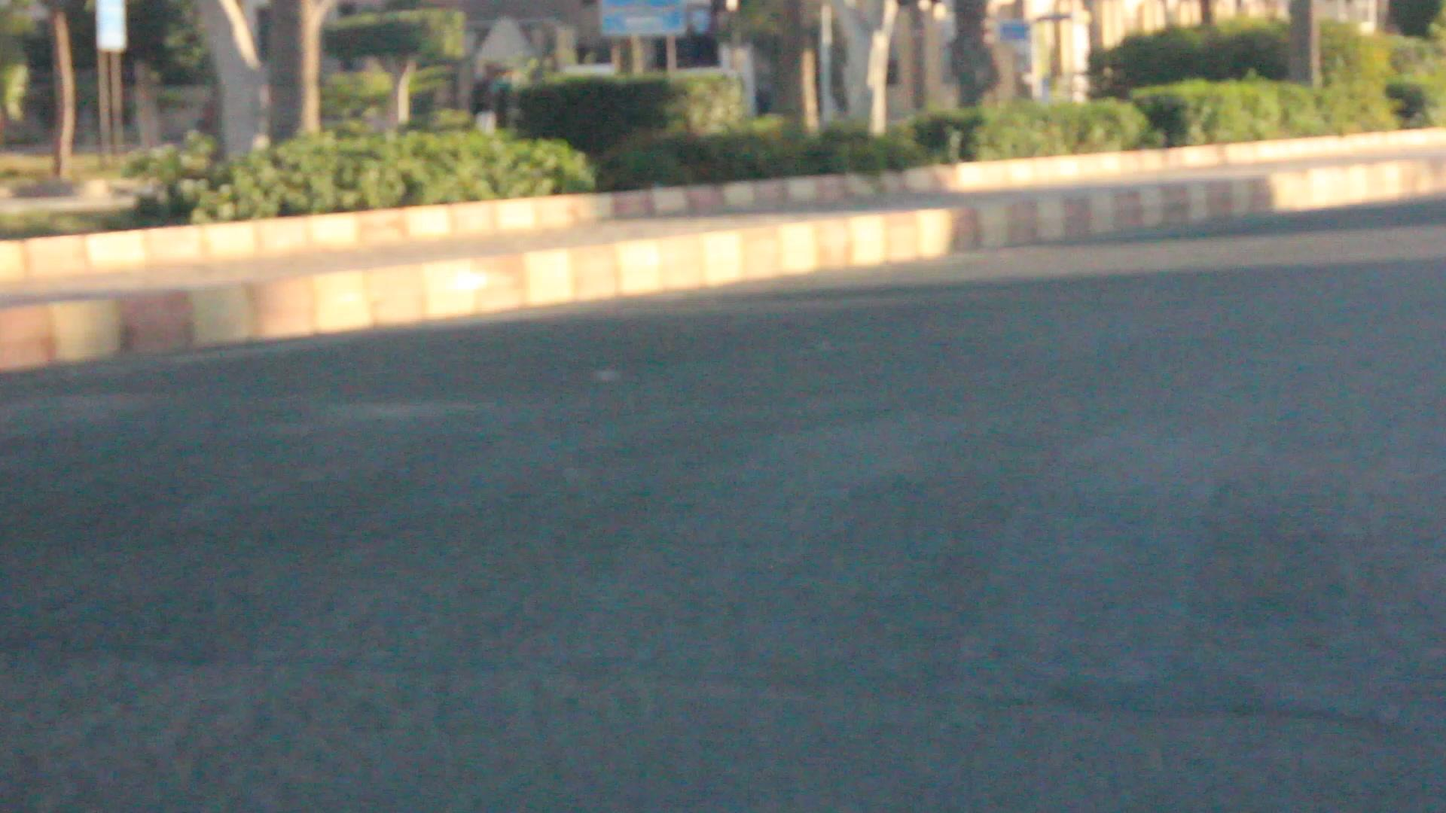Bump: (15, 376, 1425, 706)
